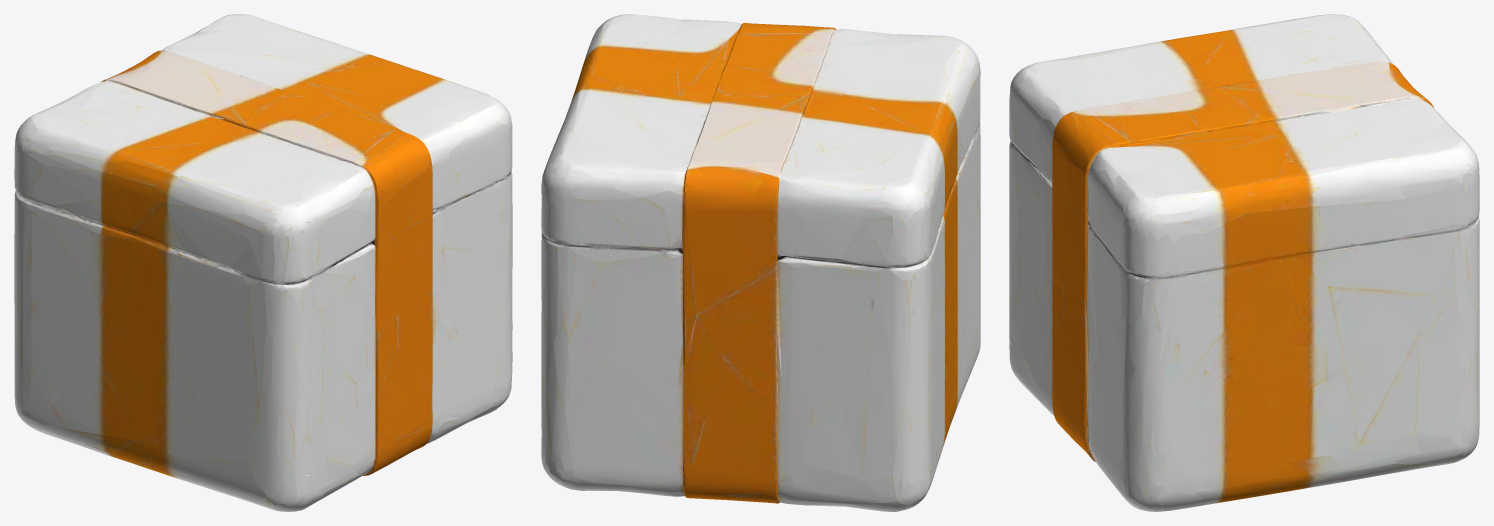
3 views of the same model, side by side, from view 1: azimuth 30°, elevation 25°; view 2: azimuth 150°, elevation 25°; view 3: azimuth 270°, elevation 25° (orthographic). The views are drawn at different scales.
Bounding box in the file's own units: 1.9 × 1.42 × 1.88.
1 material, 1 textured.
